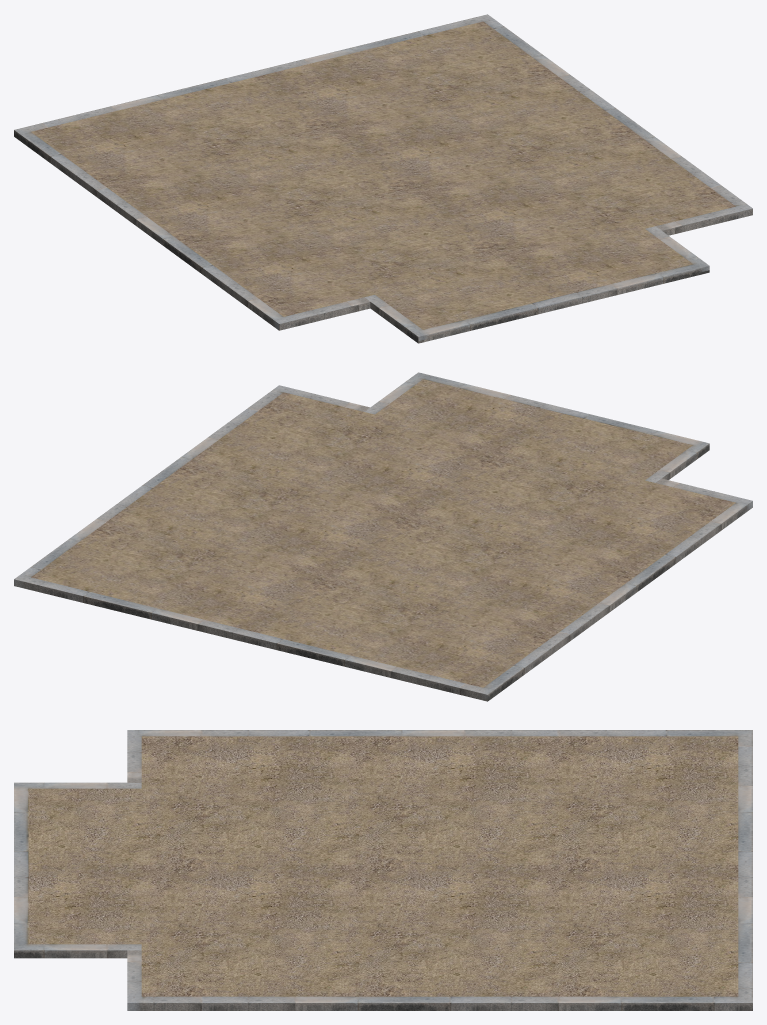
Rendered from SM_Sun_Won_Kidan.fbx.
3 renders of one model, top to bottom at view 1: azimuth 30°, elevation 25°; view 2: azimuth 150°, elevation 25°; view 3: azimuth 270°, elevation 25°, orthographic. The views are drawn at different scales.
Parts seen in each view (by area): view 1: SM_Sun_Won_Kidan; view 2: SM_Sun_Won_Kidan; view 3: SM_Sun_Won_Kidan.
Part boxes in pixels (x1,y1,x2,y2): SM_Sun_Won_Kidan: [14, 14, 752, 343]; SM_Sun_Won_Kidan: [14, 372, 752, 701]; SM_Sun_Won_Kidan: [14, 730, 752, 1010].
Bounding box in the file's own units: 1108 × 15 × 1268.
